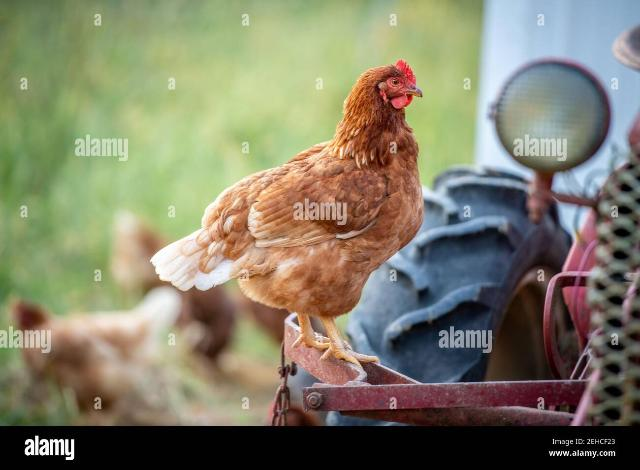Chicken: (150, 59, 429, 370)
